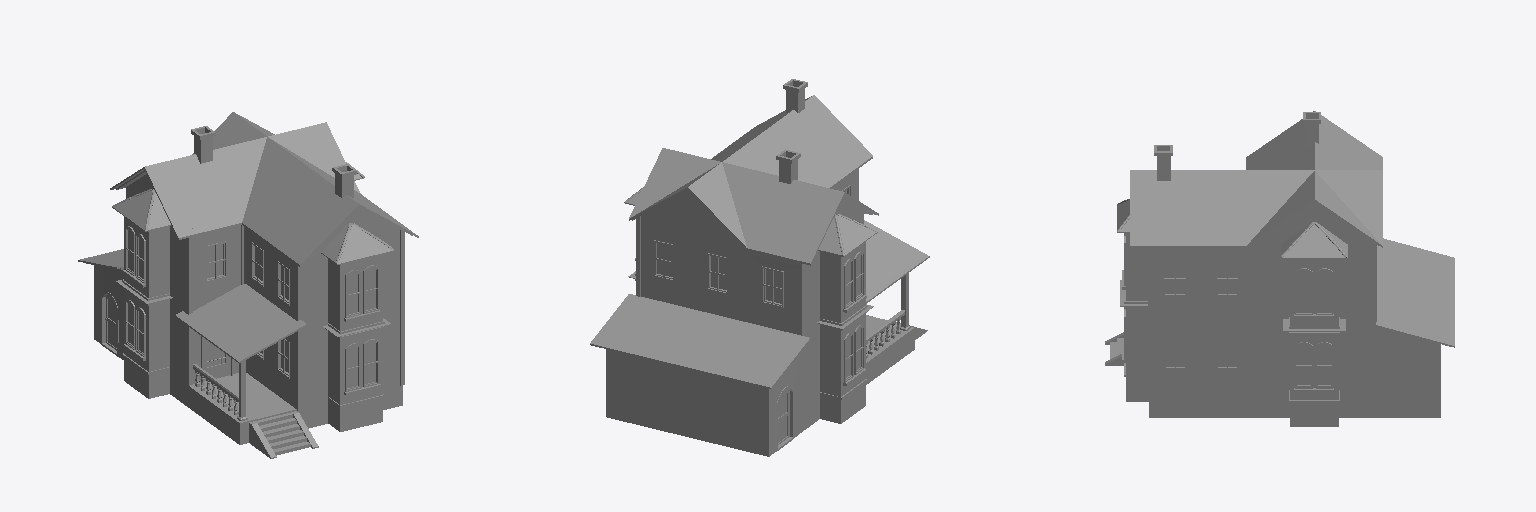
File: OldHouse.obj
The picture shows the model from 3 angles: view 1: azimuth 30°, elevation 25°; view 2: azimuth 150°, elevation 25°; view 3: azimuth 270°, elevation 25°; orthographic projection.
Visible parts, largest first — view 1: House.001_Plane.061; view 2: House.001_Plane.061; view 3: House.001_Plane.061.
Part boxes in pixels (left/top/right/bottom): House.001_Plane.061: left=78, top=112, right=418, bottom=458; House.001_Plane.061: left=590, top=79, right=929, bottom=456; House.001_Plane.061: left=1105, top=111, right=1454, bottom=426.
Bounding box in the file's own units: 11.23 × 11.89 × 15.41.